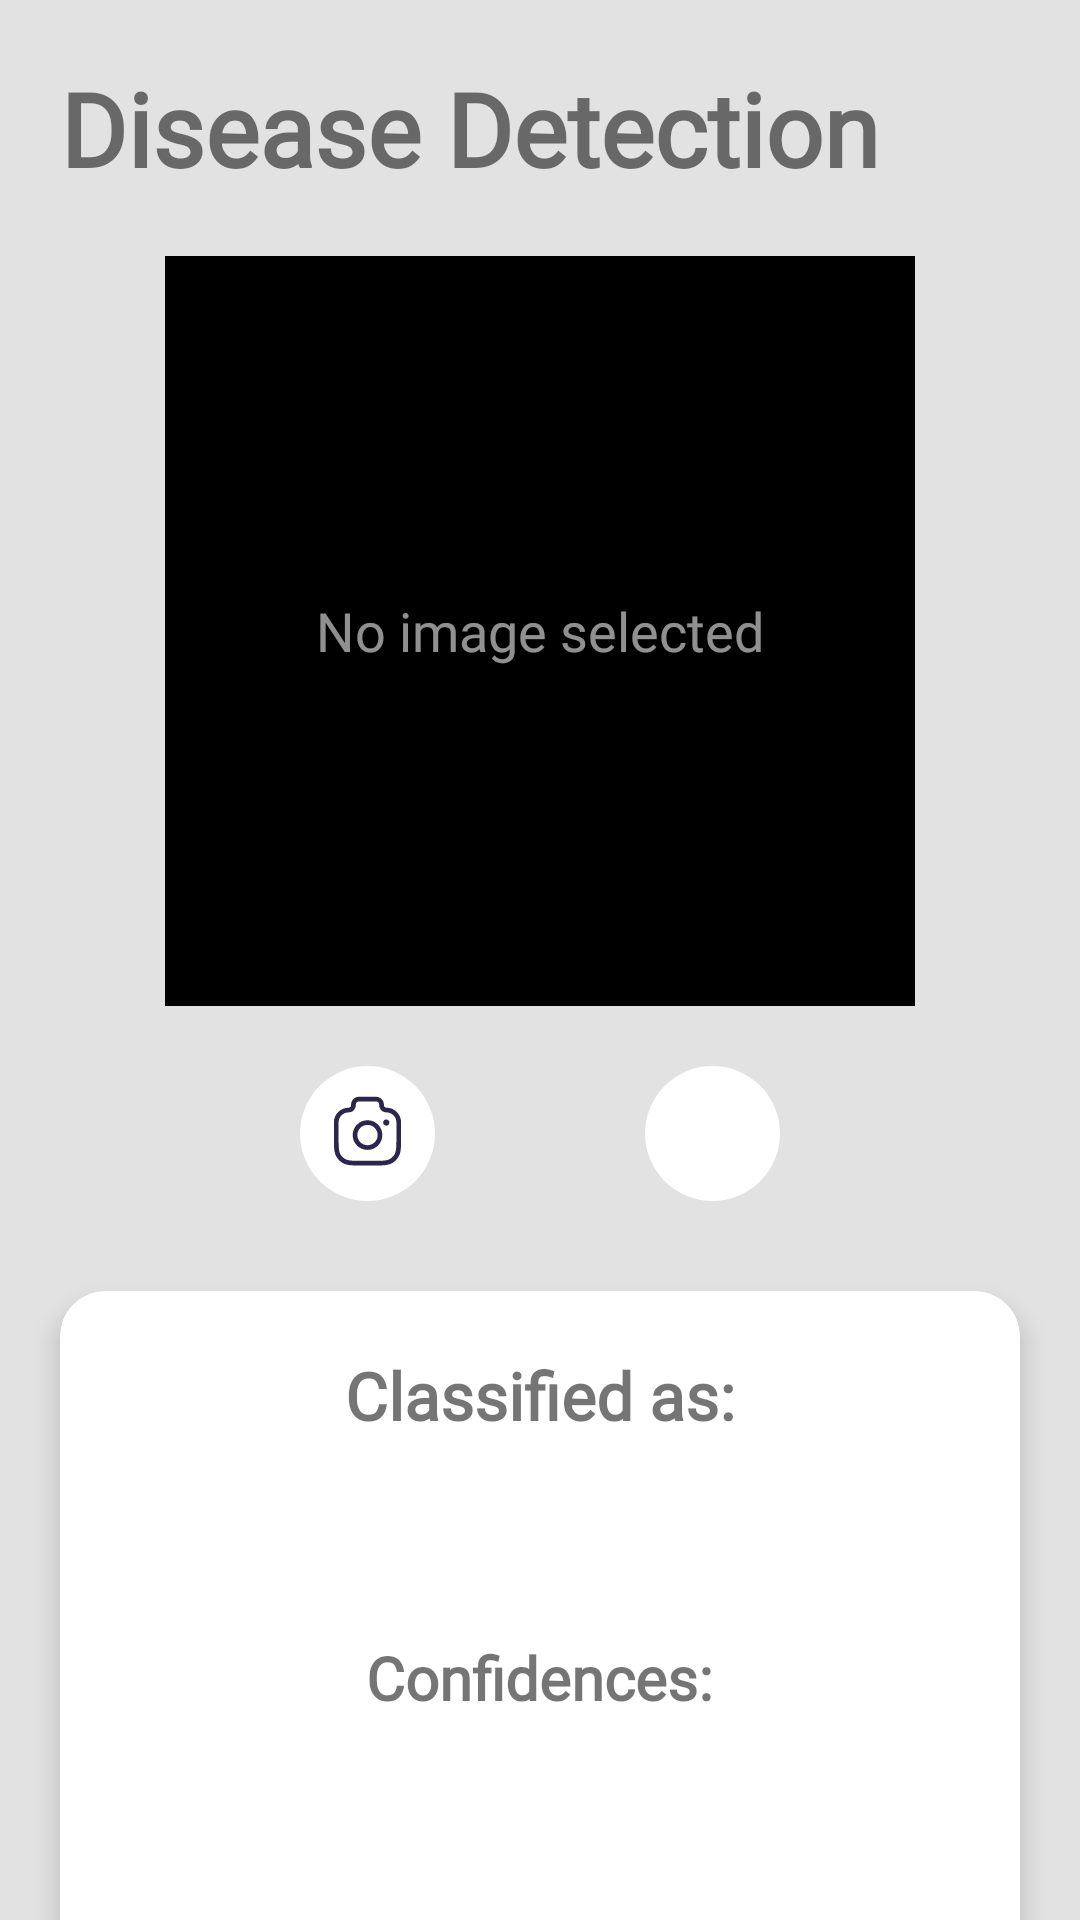

Where to tap for icons on this 1080x1920 app screen, as [x,y]:
camera: [367,1133]
